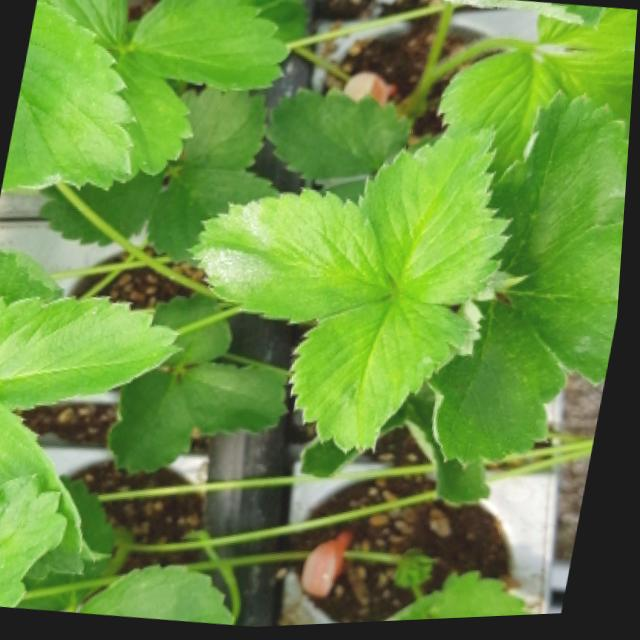Powdery Mildew Leaf: (189, 186, 398, 327), (3, 0, 139, 191), (438, 0, 607, 34)
